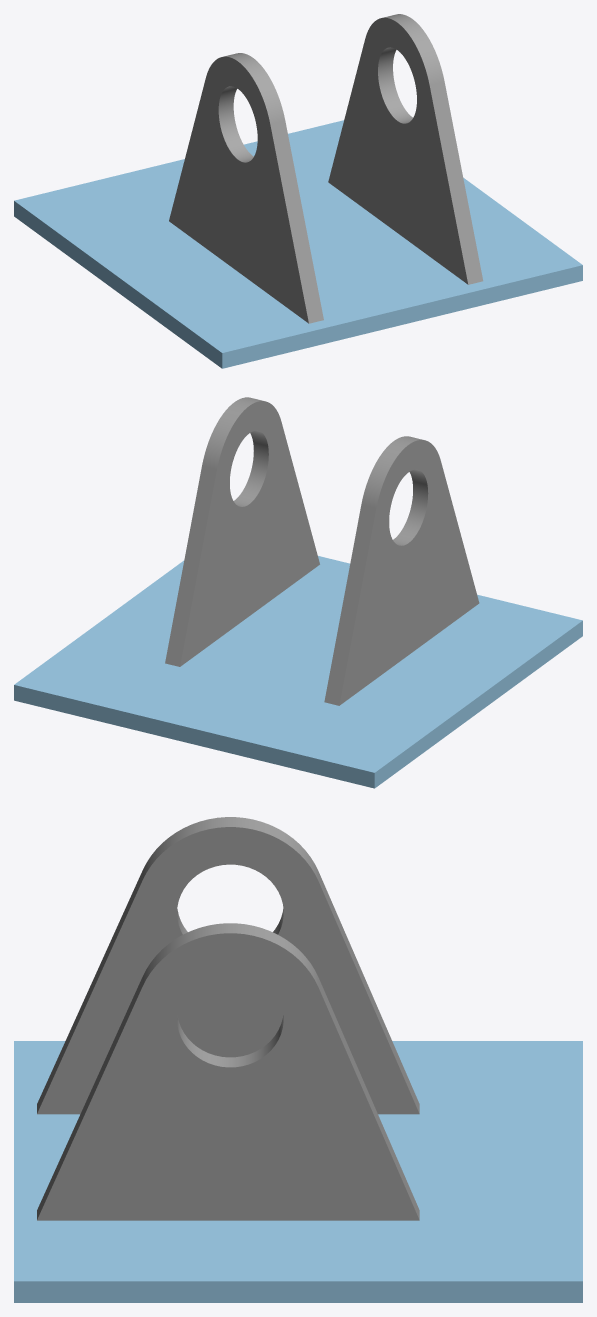
3 renders of one model, top to bottom at view 1: azimuth 30°, elevation 25°; view 2: azimuth 150°, elevation 25°; view 3: azimuth 270°, elevation 25°, orthographic. The views are drawn at different scales.
Visible parts, largest first — view 1: Part 2, Part 5, Part 4; view 2: Part 2, Part 5, Part 4; view 3: Part 2, Part 4, Part 5.
Boxes of the visible parts, x1,y1,x2,y2 form: Part 2: (14, 120, 582, 368); Part 5: (169, 53, 323, 323); Part 4: (328, 14, 483, 284); Part 2: (14, 556, 582, 788); Part 5: (324, 436, 479, 705); Part 4: (165, 397, 319, 666); Part 2: (14, 1041, 582, 1302); Part 4: (37, 923, 419, 1220); Part 5: (37, 817, 419, 1114).
Bounding box in the file's own units: 0.1524 × 0.0913 × 0.1524.
